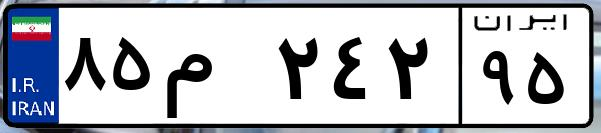2: (270, 28, 330, 110), (385, 28, 445, 110)
4: (330, 28, 385, 110)
5: (525, 38, 570, 115), (110, 28, 158, 98)
8: (57, 26, 110, 100)
9: (475, 38, 525, 113)
م: (158, 20, 270, 120)
